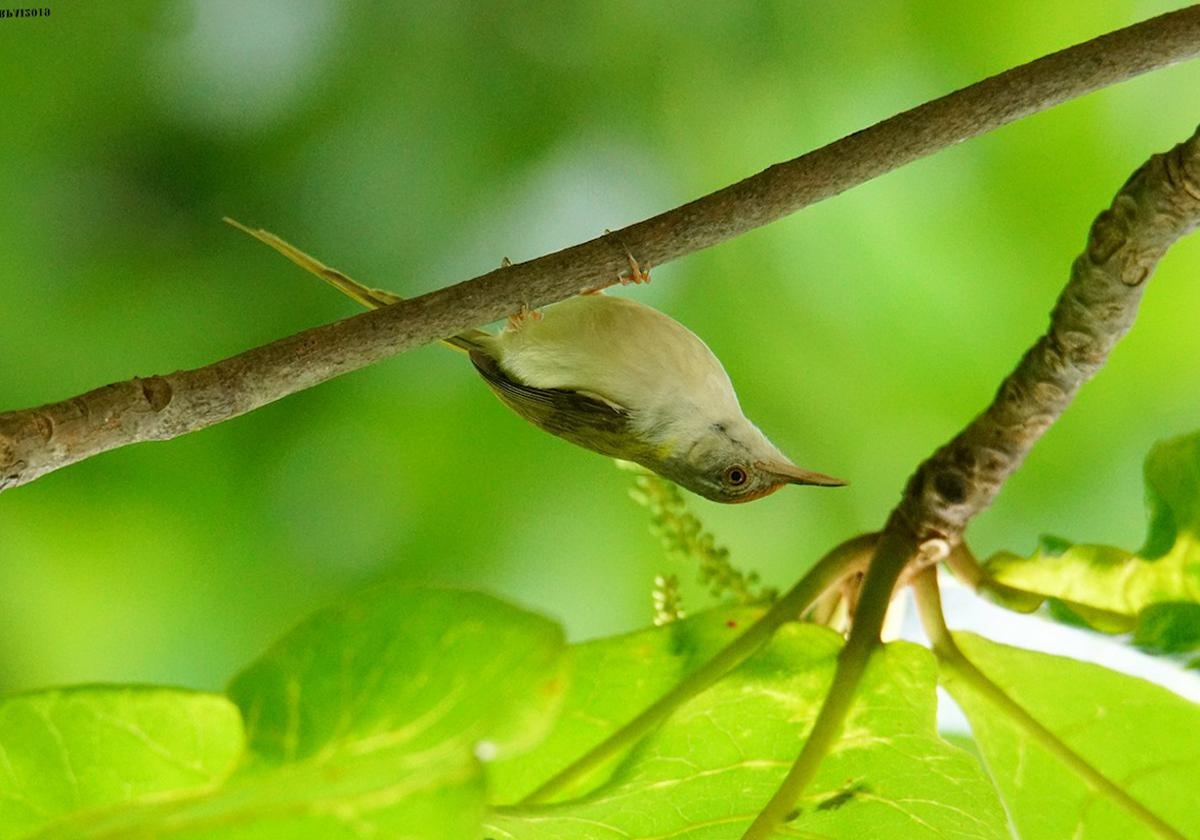tailorbird: (238, 196, 847, 527)
